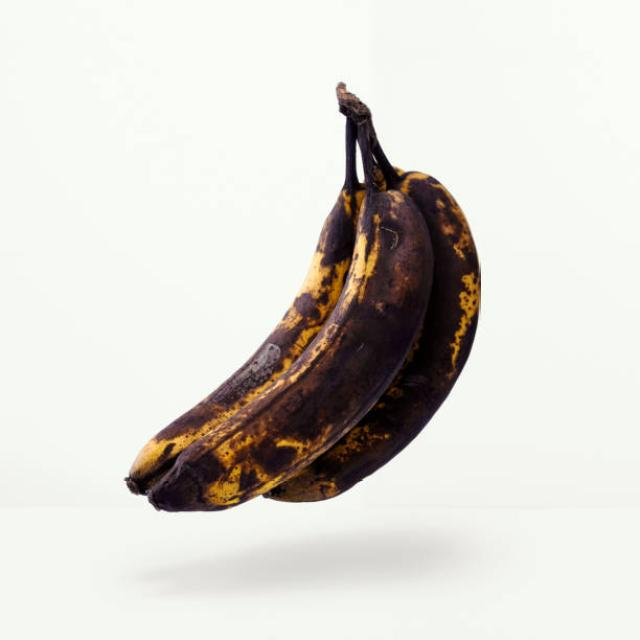Rotten: (152, 183, 433, 513)
